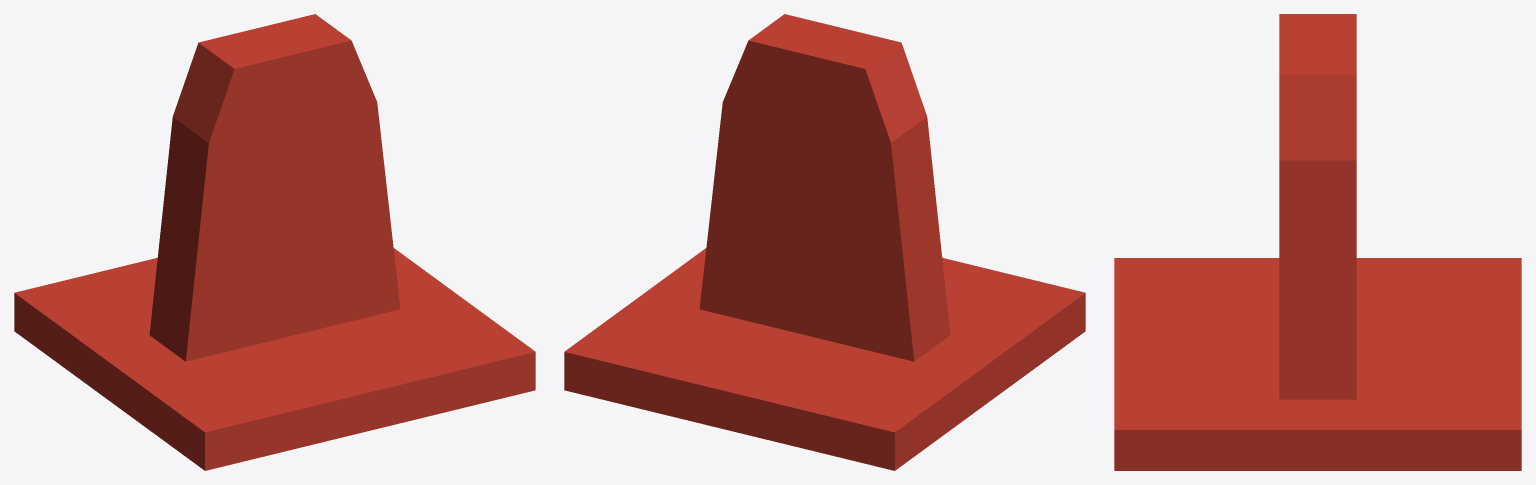
The model's file is SM_Tower_Damage.fbx.
The picture shows the model from 3 angles, left to right: view 1: azimuth 30°, elevation 25°; view 2: azimuth 150°, elevation 25°; view 3: azimuth 270°, elevation 25°; orthographic projection. The views are drawn at different scales.
Parts seen in each view (by area): view 1: SM_Tower_Damage; view 2: SM_Tower_Damage; view 3: SM_Tower_Damage.
Boxes of the visible parts, left/top/right/bottom form: SM_Tower_Damage: left=14, top=14, right=535, bottom=470; SM_Tower_Damage: left=564, top=14, right=1085, bottom=470; SM_Tower_Damage: left=1114, top=14, right=1521, bottom=470.
Size of the model in its own units: 146 by 134 by 146.
